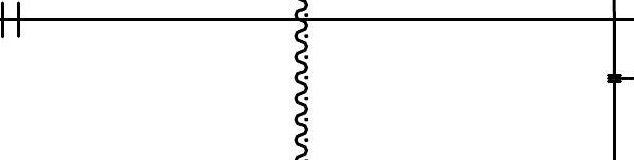115_buffer: (1, 1, 20, 38)
